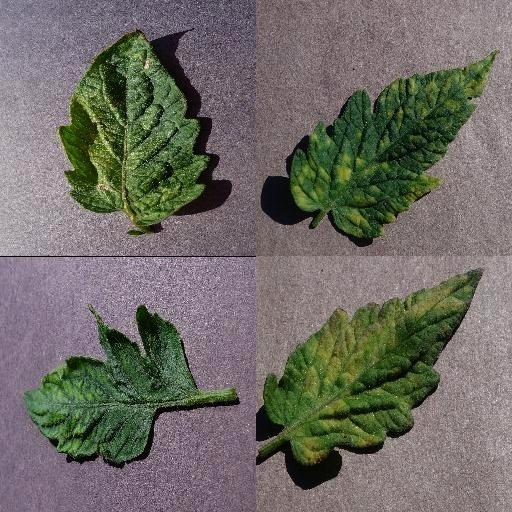Leaf Mold: (264, 265, 483, 465), (293, 51, 500, 239)
Mosaic Virus: (17, 305, 197, 465)
Spider Mites: (60, 28, 208, 228)
